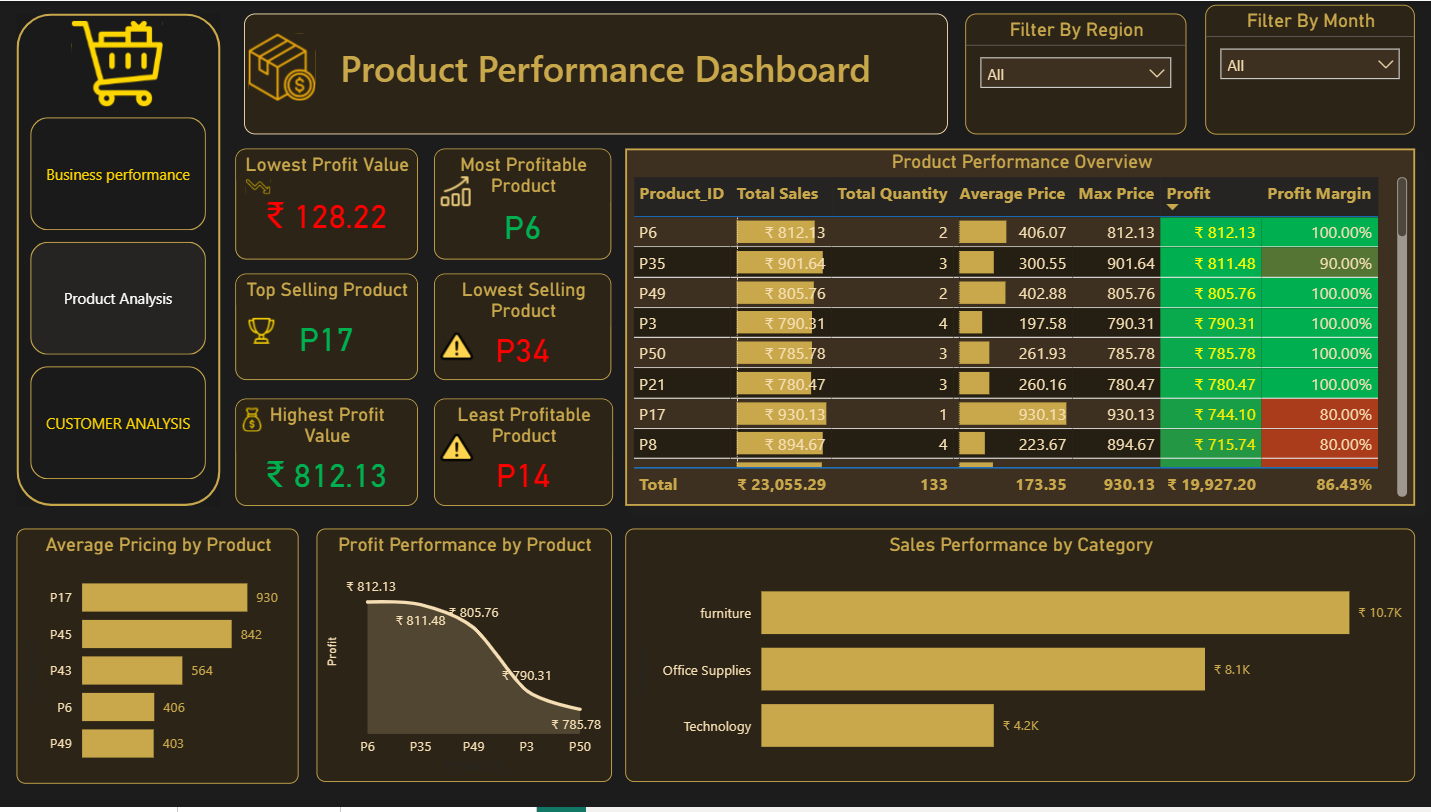

The dashboard page shown, as its layout file describes it:
{"tool":"powerbi","page":{"name":"Product Analysis ","canvas":[1280,720],"ordinal":1},"visuals":[{"type":"barChart","title":"Average Pricing by Product","fields":{"Category":["Orders.Product_ID"],"Y":["Orders.Average Price"]},"box":[15.6,471.2,252.4,227.8],"z":0},{"type":"card","title":"Least Profitable Product","fields":{"Values":["Orders.Most Loss Making Product"]},"box":[388.6,355.1,159.7,96],"z":1000},{"type":"tableEx","title":"Product Performance Overview","fields":{"Values":["Orders.Product_ID","Orders.Total Sales","Orders.Total Quantity","Orders.Average Price","Orders.Max Price","Orders.Profit","Orders.Profit Margin"]},"box":[559.7,131.8,705.9,318.8],"z":2000},{"type":"slicer","title":"Filter By Month","fields":{"Values":["Orders.Order_Date.Variation.Date Hierarchy.Month"]},"box":[1077.5,3.3,187.6,116.1],"z":3000},{"type":"card","title":"Lowest Profit Value","fields":{"Values":["Orders.Most Loss Making Value"]},"box":[210.6,131.3,163,99.6],"z":4000},{"type":"card","title":"Most Profitable Product","fields":{"Values":["Orders.Most Profitable Product"]},"box":[388.1,131.3,158.7,99.6],"z":5000},{"type":"card","title":"Highest Profit Value","fields":{"Values":["Orders.Most Profitable Value"]},"box":[211,355.1,163,96],"z":6000},{"type":"card","title":"Top Selling Product","fields":{"Values":["Orders.Most Selling Product"]},"box":[210.6,243.8,163,95.2],"z":7000},{"type":"card","title":"Lowest Selling Product","fields":{"Values":["Orders.Least Selling Product"]},"box":[388.1,243.8,158.7,95.2],"z":8000},{"type":"areaChart","title":"Profit Performance by Product","fields":{"Category":["Orders.Product_ID"],"Y":["Orders.Profit"]},"box":[284,471,263.7,226.5],"z":9000},{"type":"textbox","box":[218.9,11.2,628.7,108.3],"z":10000},{"type":"barChart","title":"Sales Performance by Category","fields":{"Category":["Orders.Category"],"Y":["Orders.Total Sales"]},"box":[559.7,471,705.9,226.5],"z":11000},{"type":"shape","box":[15.6,10.8,182.2,439.9],"z":12000},{"type":"actionButton","title":"asfas","box":[26,11.5,160.1,89.5],"z":13000},{"type":"pageNavigator","box":[27.4,103.9,157.3,323.2],"z":14000},{"type":"actionButton","title":"asfas","box":[219.3,10.1,67.8,98.1],"z":15000},{"type":"slicer","title":"Filter By Region","fields":{"Values":["Orders.Region"]},"box":[863.2,11.2,197.6,108.3],"z":16000},{"type":"actionButton","title":"asfas","box":[213.3,151,37.2,30],"z":16001},{"type":"actionButton","title":"asfas","box":[210.9,350,30,49.1],"z":16002},{"type":"actionButton","title":"asfas","box":[219.3,264.9,31.2,59.9],"z":16003},{"type":"actionButton","title":"asfas","box":[388.3,369.1,40.7,58.7],"z":16004},{"type":"actionButton","title":"asfas","box":[385.9,151,43.1,38.4],"z":16005},{"type":"actionButton","title":"asfas","box":[388.3,279.3,40.7,58.7],"z":16006}]}

Visuals, with their boxes in screenshot pixels (x1, y1, x2, y2), scaled from the page's 1280x720 canvas onto the 1431x812 screenshot:
"Average Pricing by Product" barChart: 17 531 300 788
"Least Profitable Product" card: 434 400 613 509
"Product Performance Overview" tableEx: 626 149 1415 508
"Filter By Month" slicer: 1205 4 1414 135
"Lowest Profit Value" card: 235 148 418 260
"Most Profitable Product" card: 434 148 611 260
"Highest Profit Value" card: 236 400 418 509
"Top Selling Product" card: 235 275 418 382
"Lowest Selling Product" card: 434 275 611 382
"Profit Performance by Product" areaChart: 318 531 612 787
textbox: 245 13 948 135
"Sales Performance by Category" barChart: 626 531 1415 787
shape: 17 12 221 508
"asfas" actionButton: 29 13 208 114
pageNavigator: 31 117 206 482
"asfas" actionButton: 245 11 321 122
"Filter By Region" slicer: 965 13 1186 135
"asfas" actionButton: 238 170 280 204
"asfas" actionButton: 236 395 269 450
"asfas" actionButton: 245 299 280 366
"asfas" actionButton: 434 416 480 482
"asfas" actionButton: 431 170 480 214
"asfas" actionButton: 434 315 480 381
